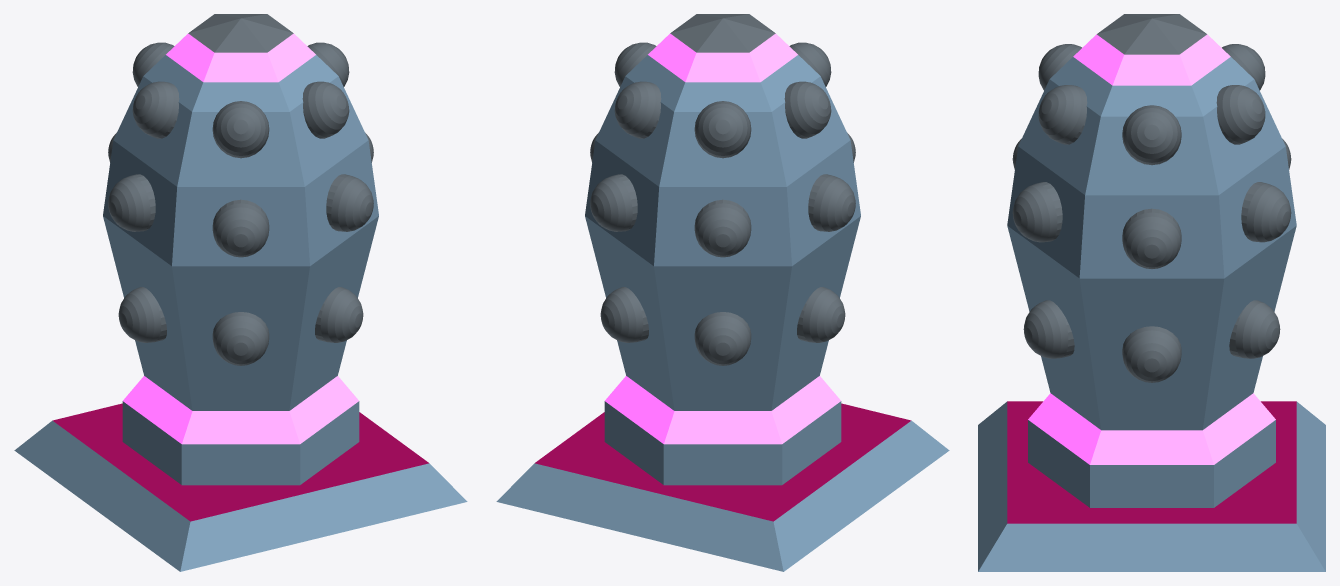
The model's file is Waall_6.fbx.
3 renders of one model, left to right at view 1: azimuth 30°, elevation 25°; view 2: azimuth 150°, elevation 25°; view 3: azimuth 270°, elevation 25°, orthographic. The views are drawn at different scales.
Parts seen in each view (by area): view 1: waal_solid_6; view 2: waal_solid_6; view 3: waal_solid_6.
Part boxes in pixels (bbox=[...]): waal_solid_6: bbox=[14, 14, 467, 571]; waal_solid_6: bbox=[496, 14, 949, 571]; waal_solid_6: bbox=[978, 14, 1325, 571].
Size of the model in its own units: 39.36 by 59.93 by 39.36.
